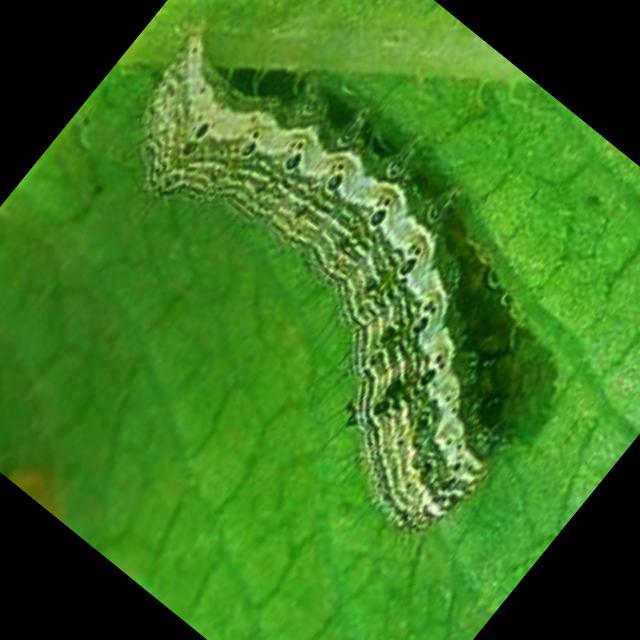Cotton bollworm: (12, 0, 634, 568)
